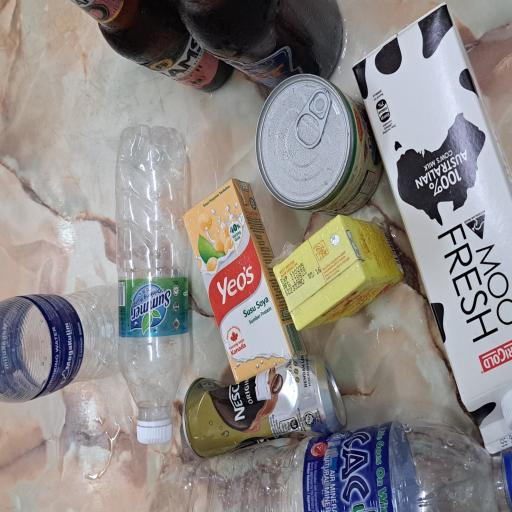can: (226, 337, 327, 512), (40, 237, 118, 462)
drink carton: (99, 243, 251, 395), (136, 361, 217, 512)
glass bottle: (315, 102, 384, 310), (318, 242, 384, 458)
plastic bottle: (69, 160, 294, 252), (1, 214, 67, 512), (81, 0, 173, 172)
plastic bottle cap: (50, 174, 70, 228)
pop tab: (269, 384, 318, 447)
